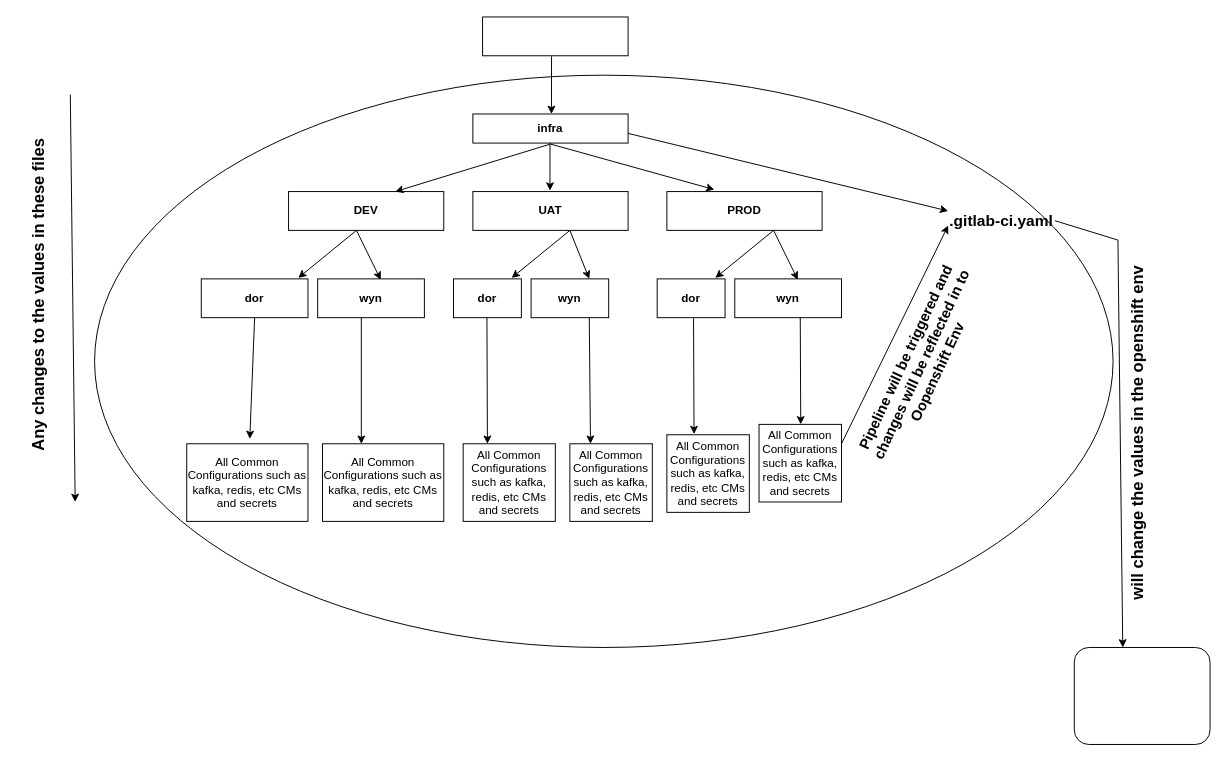
Image size: 1227x761. Some labels were removed from this diagram. The shapes that lost their labels are listed below. From the top down, each one's centre as x and y in pixels, then its label:
[555,36]: ceai-lab (Optional)
[1141,695]: Openshift Deployment
